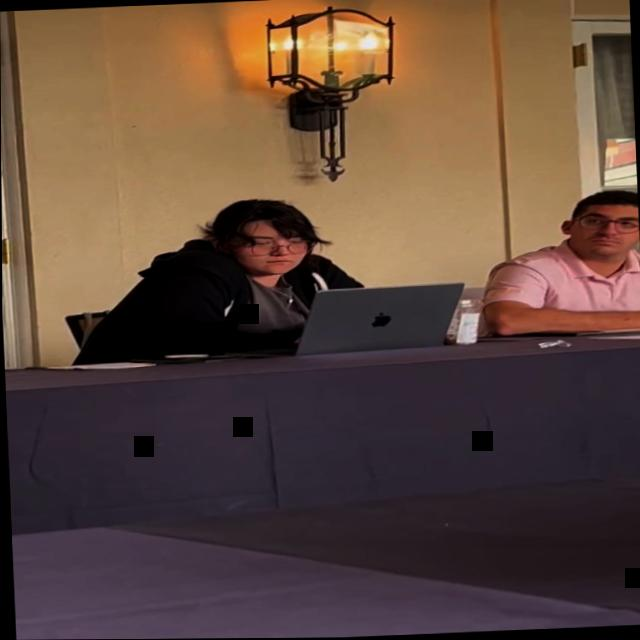NO-Mask: (233, 211, 316, 277), (567, 194, 640, 261)
